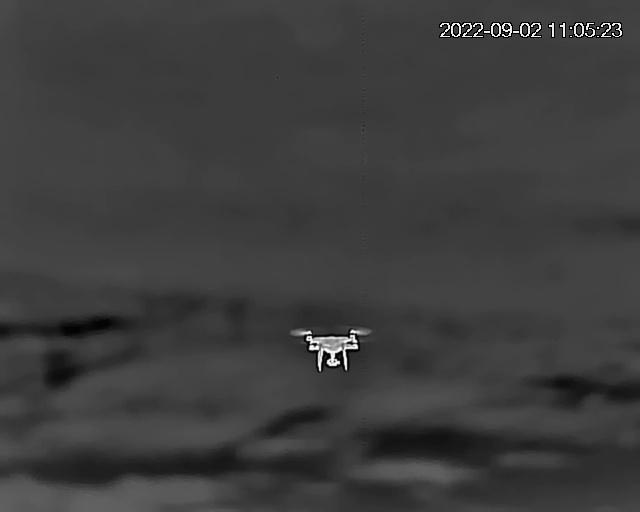DJI-Phantom: (290, 324, 376, 371)
